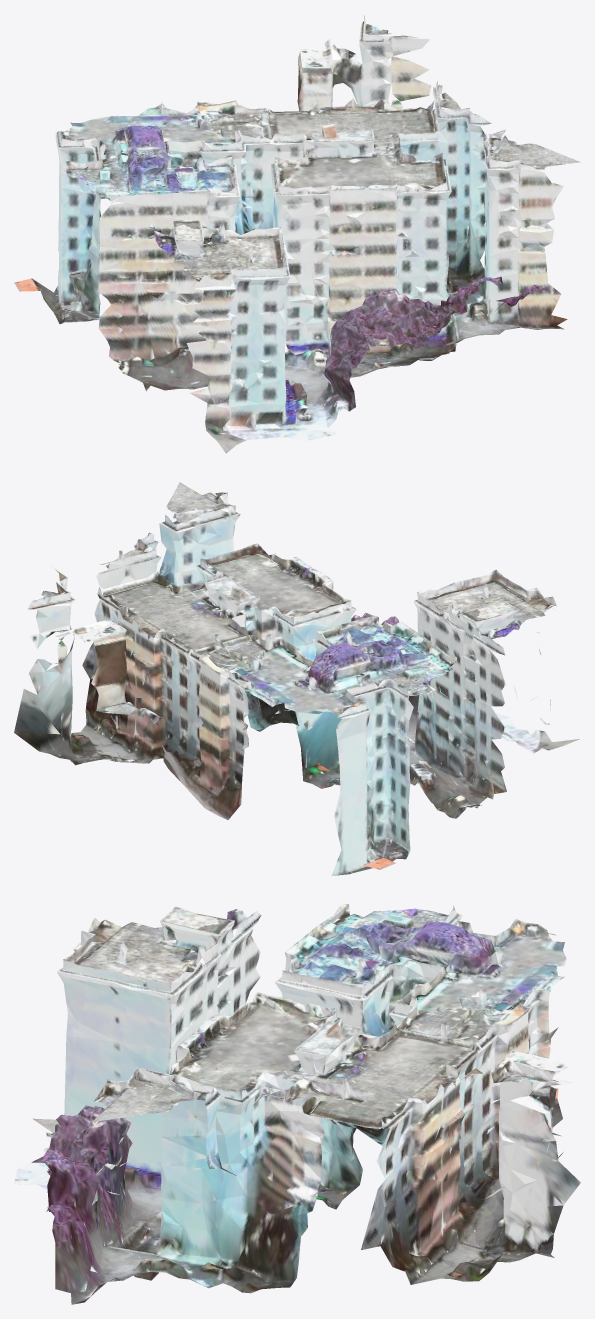
Rendered from Tile_+012_+019_L19_000000.glb.
3 renders of one model, top to bottom at view 1: azimuth 30°, elevation 25°; view 2: azimuth 150°, elevation 25°; view 3: azimuth 270°, elevation 25°, orthographic. The views are drawn at different scales.
Visible parts, largest first — view 1: rtc; view 2: rtc; view 3: rtc.
Boxes of the visible parts, x1,y1,x2,y2 form: rtc: (14, 15, 580, 453); rtc: (14, 482, 579, 875); rtc: (14, 904, 580, 1304).
Size of the model in its own units: 59.02 by 29.81 by 57.71.
Materials: 1 (1 with a texture image).
